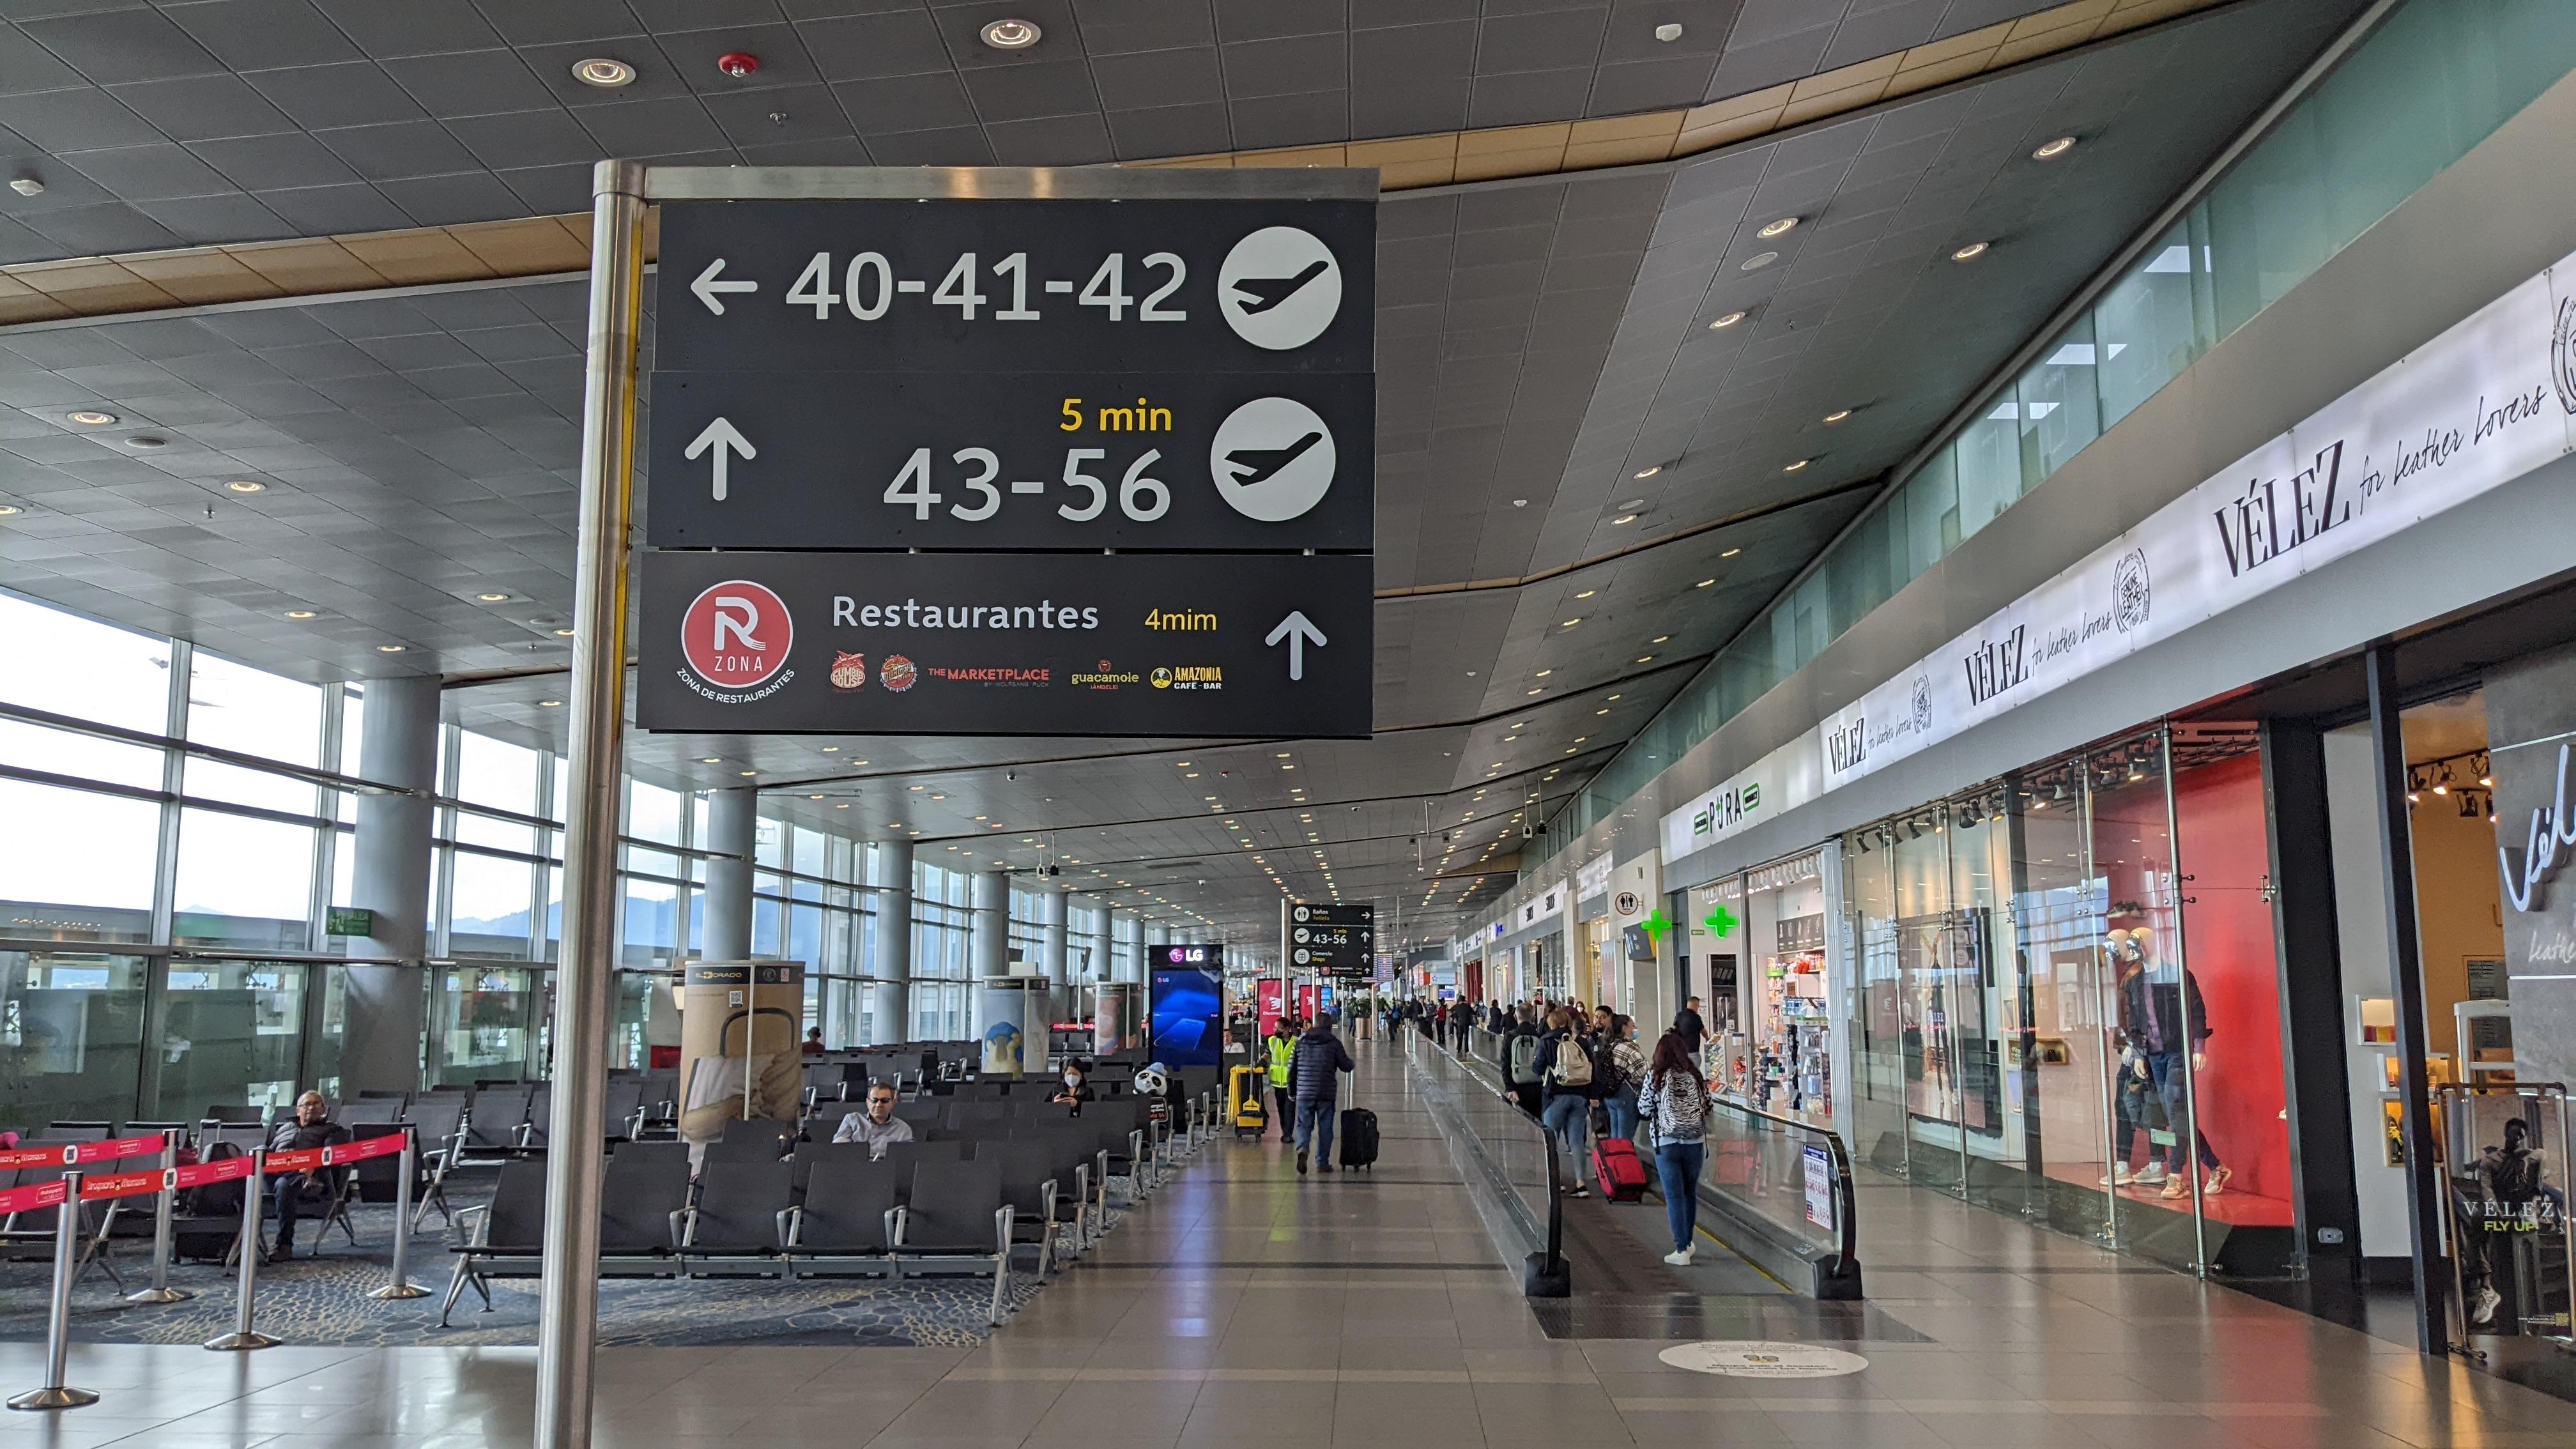airplane symbol: (1230, 255, 1330, 320), (1215, 428, 1330, 483), (1297, 932, 1307, 939)
bathrooms: (1297, 909, 1307, 920)
left arrow: (686, 255, 763, 318)
right arrow: (1361, 911, 1371, 920)
up arrow: (681, 410, 761, 504), (1261, 607, 1332, 685), (1361, 931, 1371, 943), (1361, 952, 1371, 962), (1364, 968, 1371, 975)
